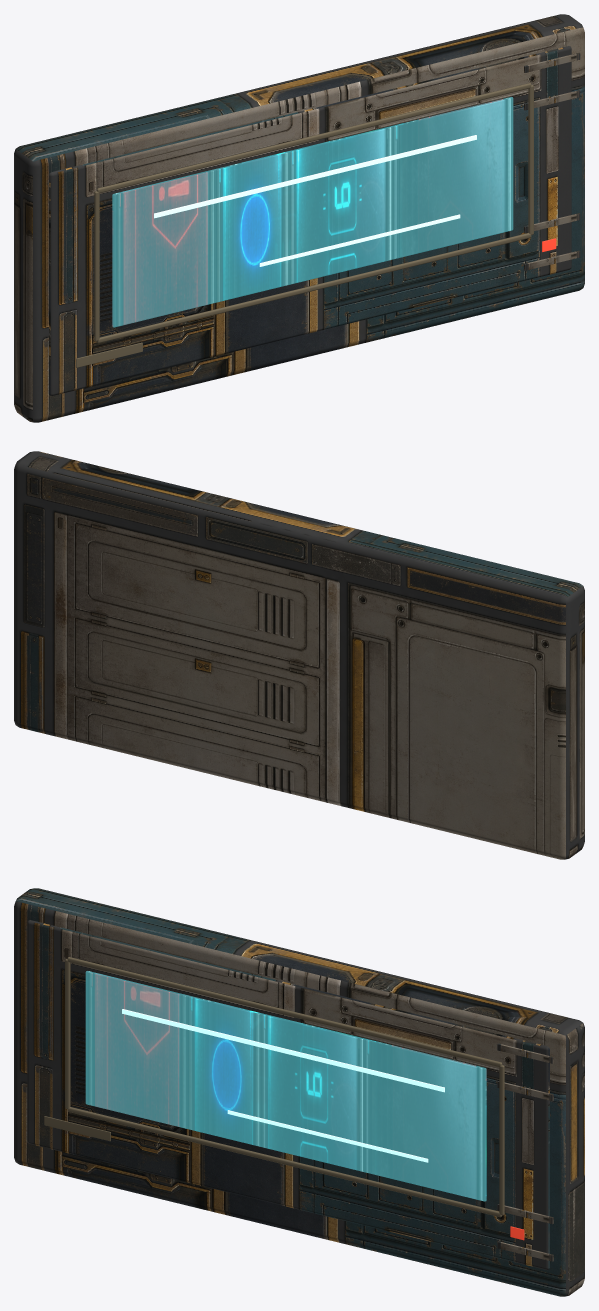
The model's file is hp_room_residential_tv_wall_director.glb.
3 views of the same model, one above another, from view 1: azimuth 30°, elevation 25°; view 2: azimuth 150°, elevation 25°; view 3: azimuth 330°, elevation 25° (orthographic).
Parts seen in each view (by area): view 1: cool_gray_surround_panel, wide_false_home_observation_screen, deep_wall_shadow_backer, tv_screen_frame_top, tv_screen_frame_bottom, cyan_horizon_scan_line, lower_cyan_audio_trace, tv_screen_frame_left, tv_screen_frame_right, small_warm_domestic_status; view 2: deep_wall_shadow_backer; view 3: cool_gray_surround_panel, wide_false_home_observation_screen, deep_wall_shadow_backer, tv_screen_frame_top, tv_screen_frame_bottom, cyan_horizon_scan_line, lower_cyan_audio_trace, tv_screen_frame_right, tv_screen_frame_left, small_warm_domestic_status.
Part boxes in pixels (left/top/right/bottom): cool_gray_surround_panel: left=49, top=46, right=571, bottom=395; wide_false_home_observation_screen: left=112, top=97, right=513, bottom=327; deep_wall_shadow_backer: left=14, top=14, right=584, bottom=422; tv_screen_frame_top: left=96, top=83, right=531, bottom=193; tv_screen_frame_bottom: left=96, top=233, right=531, bottom=343; cyan_horizon_scan_line: left=154, top=135, right=476, bottom=218; lower_cyan_audio_trace: left=259, top=214, right=460, bottom=266; tv_screen_frame_left: left=94, top=191, right=99, bottom=341; tv_screen_frame_right: left=528, top=85, right=533, bottom=234; small_warm_domestic_status: left=76, top=342, right=142, bottom=367; deep_wall_shadow_backer: left=14, top=451, right=584, bottom=859; cool_gray_surround_panel: left=27, top=920, right=549, bottom=1269; wide_false_home_observation_screen: left=85, top=971, right=486, bottom=1201; deep_wall_shadow_backer: left=14, top=888, right=584, bottom=1296; tv_screen_frame_top: left=67, top=957, right=502, bottom=1067; tv_screen_frame_bottom: left=67, top=1107, right=502, bottom=1217; cyan_horizon_scan_line: left=122, top=1009, right=444, bottom=1092; lower_cyan_audio_trace: left=227, top=1110, right=428, bottom=1162; tv_screen_frame_right: left=499, top=1065, right=504, bottom=1215; tv_screen_frame_left: left=65, top=959, right=70, bottom=1108; small_warm_domestic_status: left=44, top=1116, right=110, bottom=1141.
Size of the model in its own units: 4.4 by 2.02 by 0.3688.
Materials: 6 (3 with a texture image).
